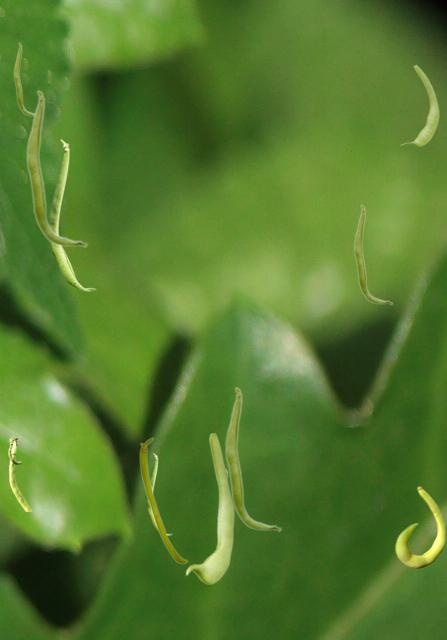french_bean: (25, 89, 87, 247), (224, 386, 281, 531), (185, 432, 233, 583), (49, 139, 95, 290), (139, 437, 187, 563), (395, 486, 445, 567), (353, 204, 392, 304), (400, 64, 438, 145), (147, 453, 171, 534), (8, 436, 31, 510), (13, 42, 33, 116)
